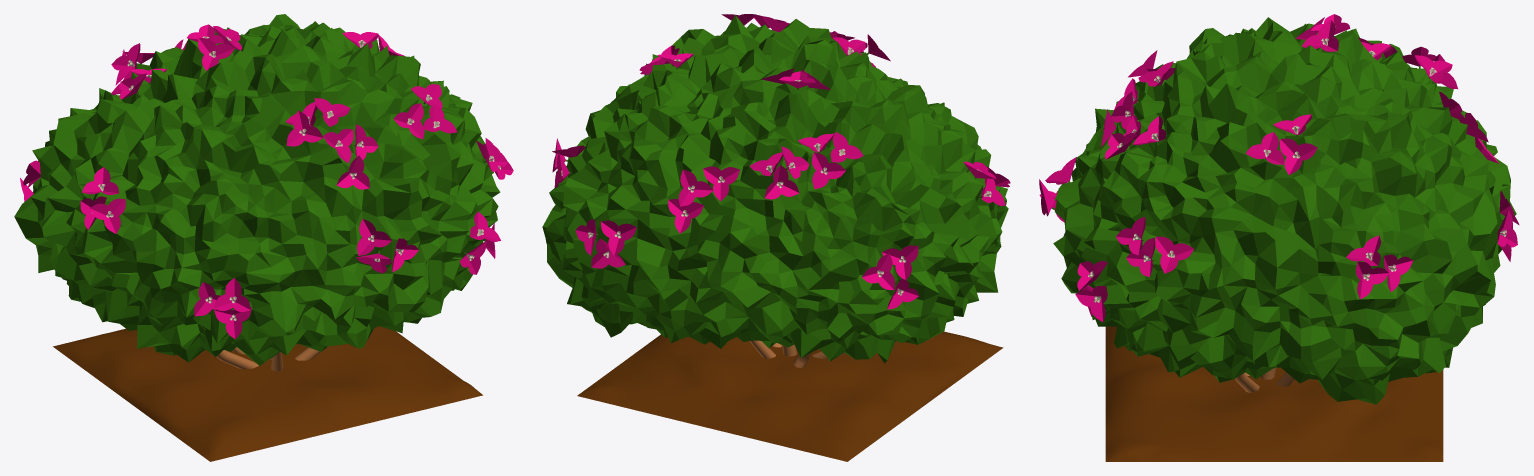
The model's file is bougainvillea.glb.
3 views of the same model, side by side, from view 1: azimuth 30°, elevation 25°; view 2: azimuth 150°, elevation 25°; view 3: azimuth 270°, elevation 25° (orthographic). The views are drawn at different scales.
Parts seen in each view (by area): view 1: 5_summer_nft; view 2: 5_summer_nft; view 3: 5_summer_nft.
Boxes of the visible parts, x1,y1,x2,y2 form: 5_summer_nft: [14, 14, 513, 461]; 5_summer_nft: [542, 14, 1010, 461]; 5_summer_nft: [1039, 14, 1519, 461].
Size of the model in its own units: 2.11 by 1.63 by 1.99.
